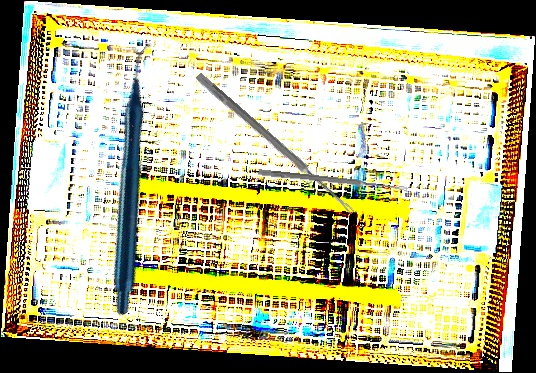Handpiece: (2, 40, 271, 318)
Surgical Spoon: (194, 72, 357, 216), (258, 169, 408, 192)
